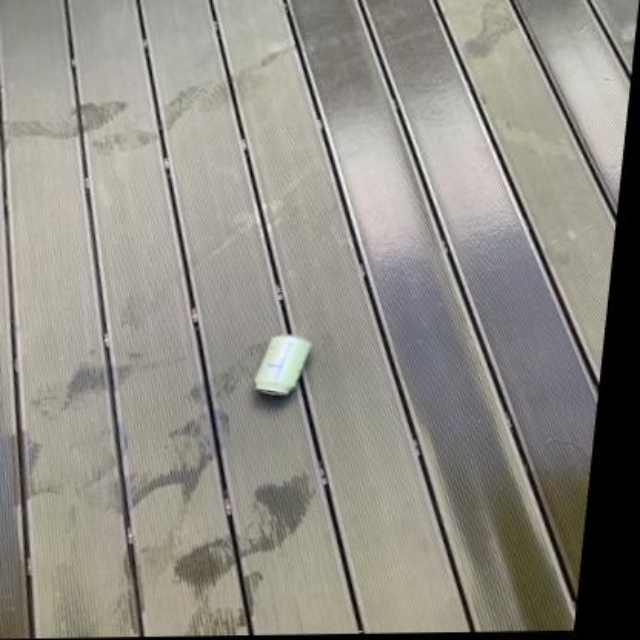trash: (254, 335, 311, 394)
